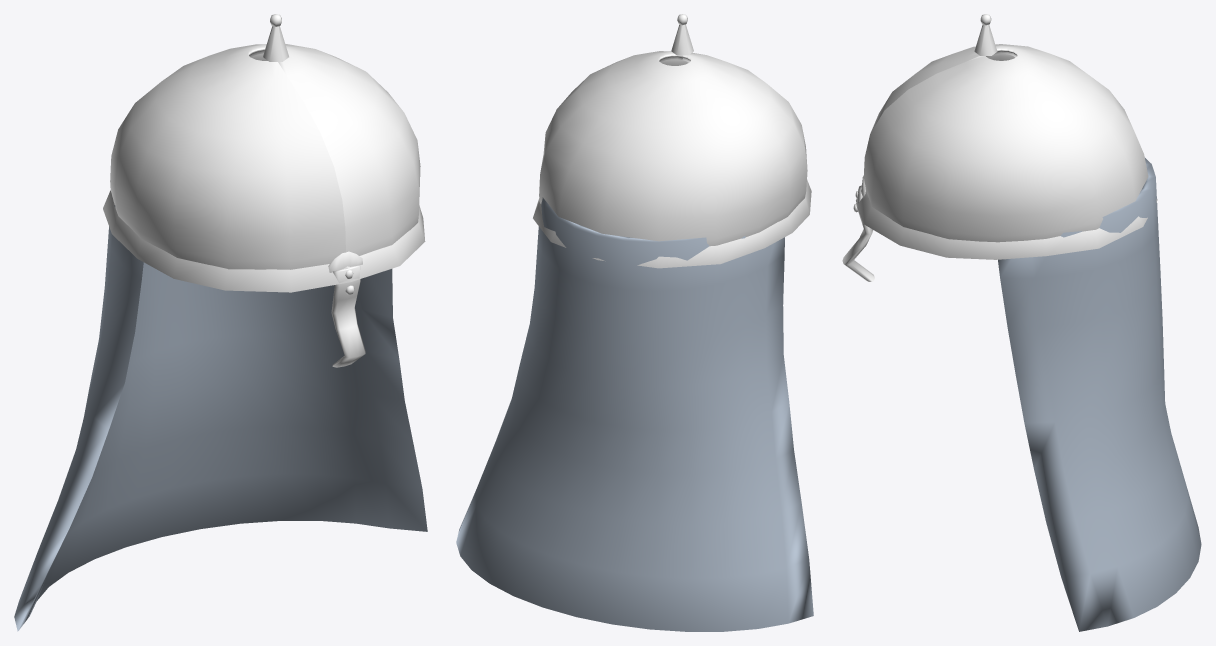
Rendered from helm-huscarl-nasal.glb.
3 renders of one model, left to right at view 1: azimuth 30°, elevation 25°; view 2: azimuth 150°, elevation 25°; view 3: azimuth 270°, elevation 25°, orthographic. The views are drawn at different scales.
Visible parts, largest first — view 1: helm-huscarl-nasal; view 2: helm-huscarl-nasal; view 3: helm-huscarl-nasal.
Part boxes in pixels (x1,y1,x2,y2): helm-huscarl-nasal: (14, 14, 427, 631); helm-huscarl-nasal: (456, 14, 813, 631); helm-huscarl-nasal: (842, 14, 1201, 631).
Size of the model in its own units: 0.3753 by 0.5307 by 0.3256.
